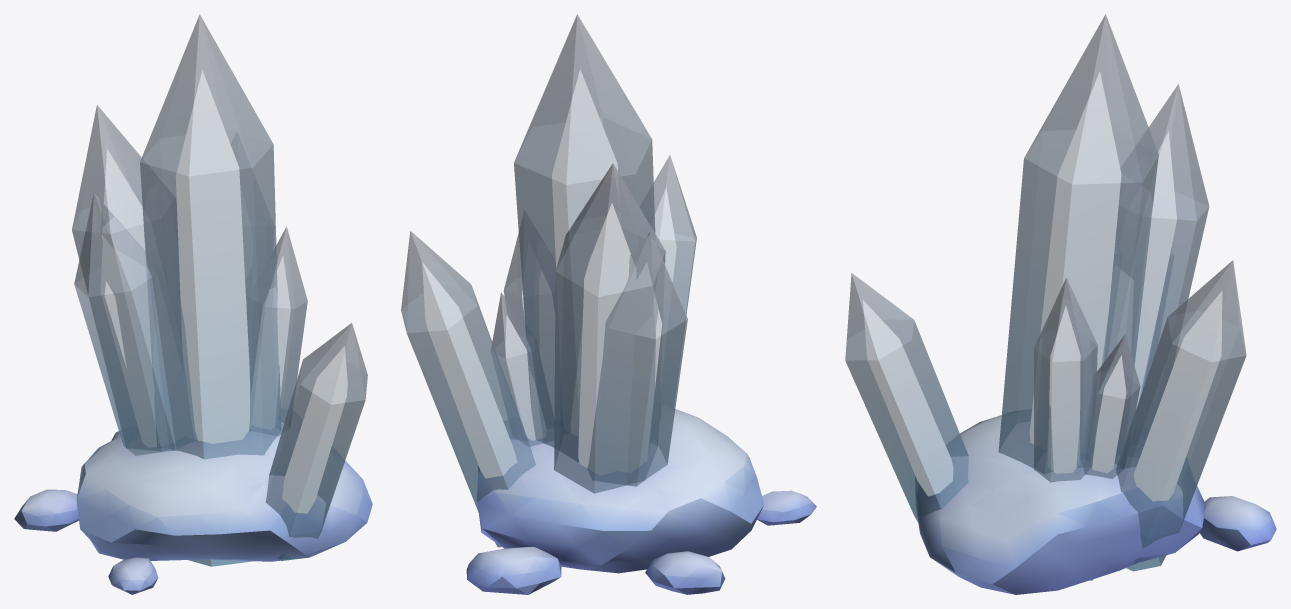
The model's file is glass_crystal_cluster_b.glb.
The picture shows the model from 3 angles, left to right: view 1: azimuth 30°, elevation 25°; view 2: azimuth 150°, elevation 25°; view 3: azimuth 270°, elevation 25°; orthographic projection. The views are drawn at different scales.
Visible parts, largest first — view 1: glass_crystal_cluster_b; view 2: glass_crystal_cluster_b; view 3: glass_crystal_cluster_b.
Boxes of the visible parts, box(x1,y1,x2,y2) form: glass_crystal_cluster_b: box(14, 14, 372, 594); glass_crystal_cluster_b: box(401, 14, 816, 594); glass_crystal_cluster_b: box(845, 14, 1276, 594).
Size of the model in its own units: 2.36 by 4.16 by 2.96.
